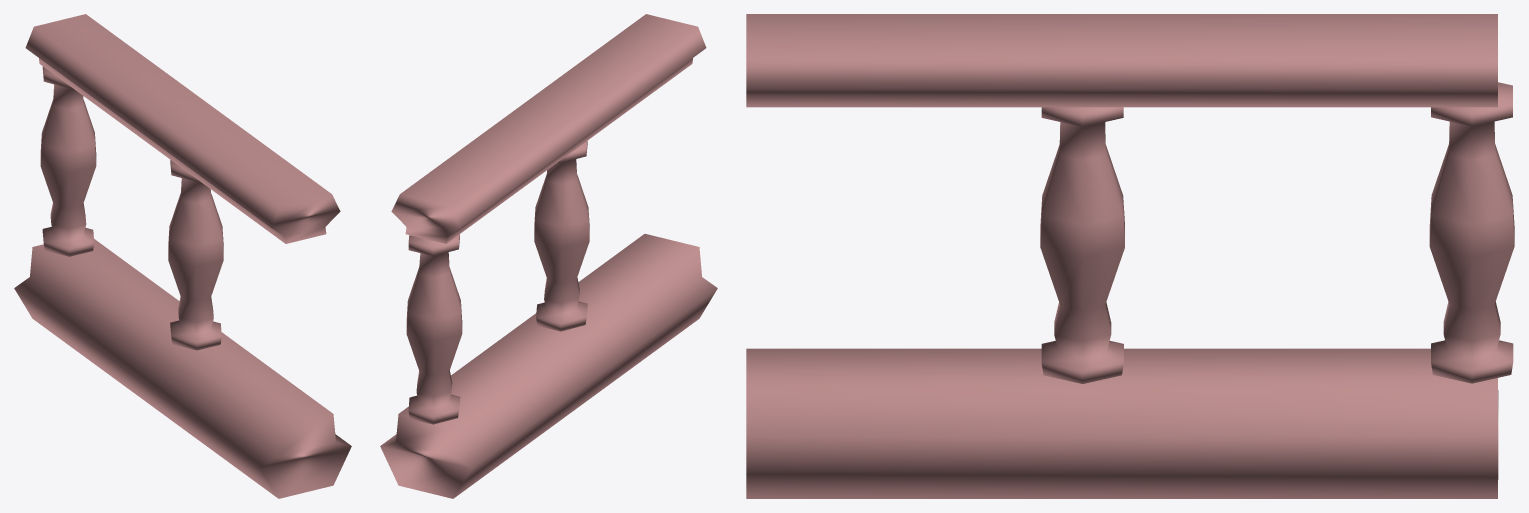
The model's file is Stone_Baluster_02_Lod0.fbx.
3 views of the same model, side by side, from view 1: azimuth 30°, elevation 25°; view 2: azimuth 150°, elevation 25°; view 3: azimuth 270°, elevation 25° (orthographic). The views are drawn at different scales.
Visible parts, largest first — view 1: Stone_Baluster_02_Lod0; view 2: Stone_Baluster_02_Lod0; view 3: Stone_Baluster_02_Lod0.
Boxes of the visible parts, box(x1,y1,x2,y2) form: Stone_Baluster_02_Lod0: box(14, 14, 351, 498); Stone_Baluster_02_Lod0: box(380, 14, 717, 498); Stone_Baluster_02_Lod0: box(746, 14, 1514, 498).
Size of the model in its own units: 32.21 by 98.03 by 153.
